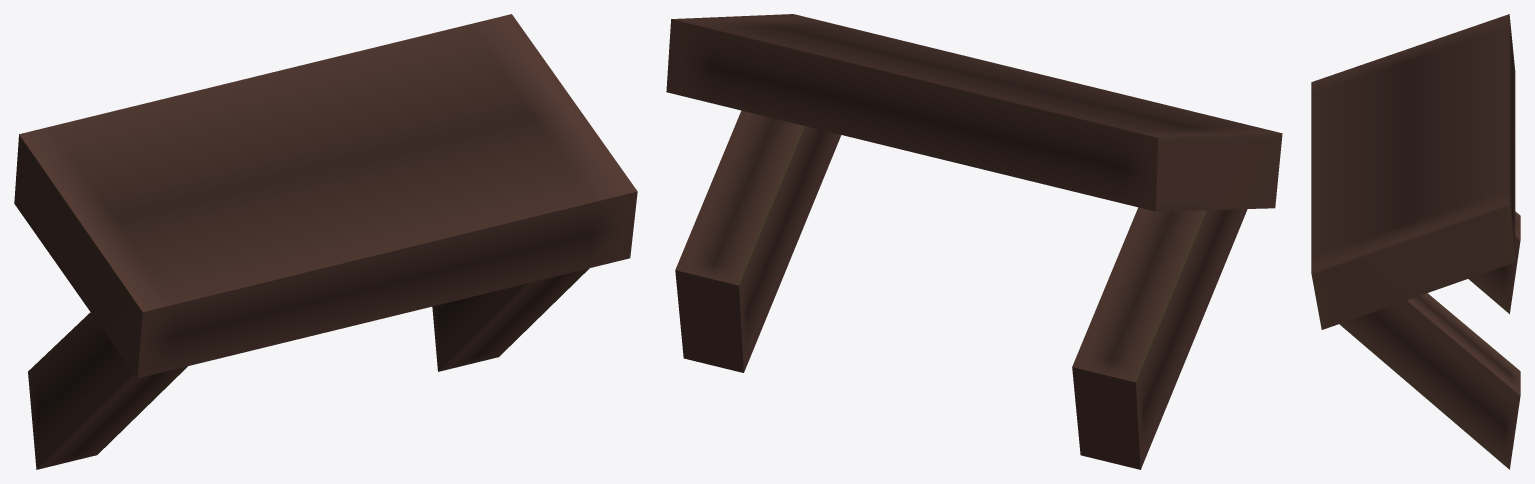
The model's file is parasol_v2_001.fbx.
The picture shows the model from 3 angles, left to right: view 1: azimuth 30°, elevation 25°; view 2: azimuth 150°, elevation 25°; view 3: azimuth 270°, elevation 25°; orthographic projection. The views are drawn at different scales.
Parts seen in each view (by area): view 1: parasol_v2_001; view 2: parasol_v2_001; view 3: parasol_v2_001.
Part boxes in pixels (x1=…): parasol_v2_001: x1=14, y1=14, x2=637, y2=469; parasol_v2_001: x1=666, y1=14, x2=1282, y2=469; parasol_v2_001: x1=1311, y1=14, x2=1520, y2=469.
Bounding box in the file's own units: 132 × 86.63 × 60.78.
